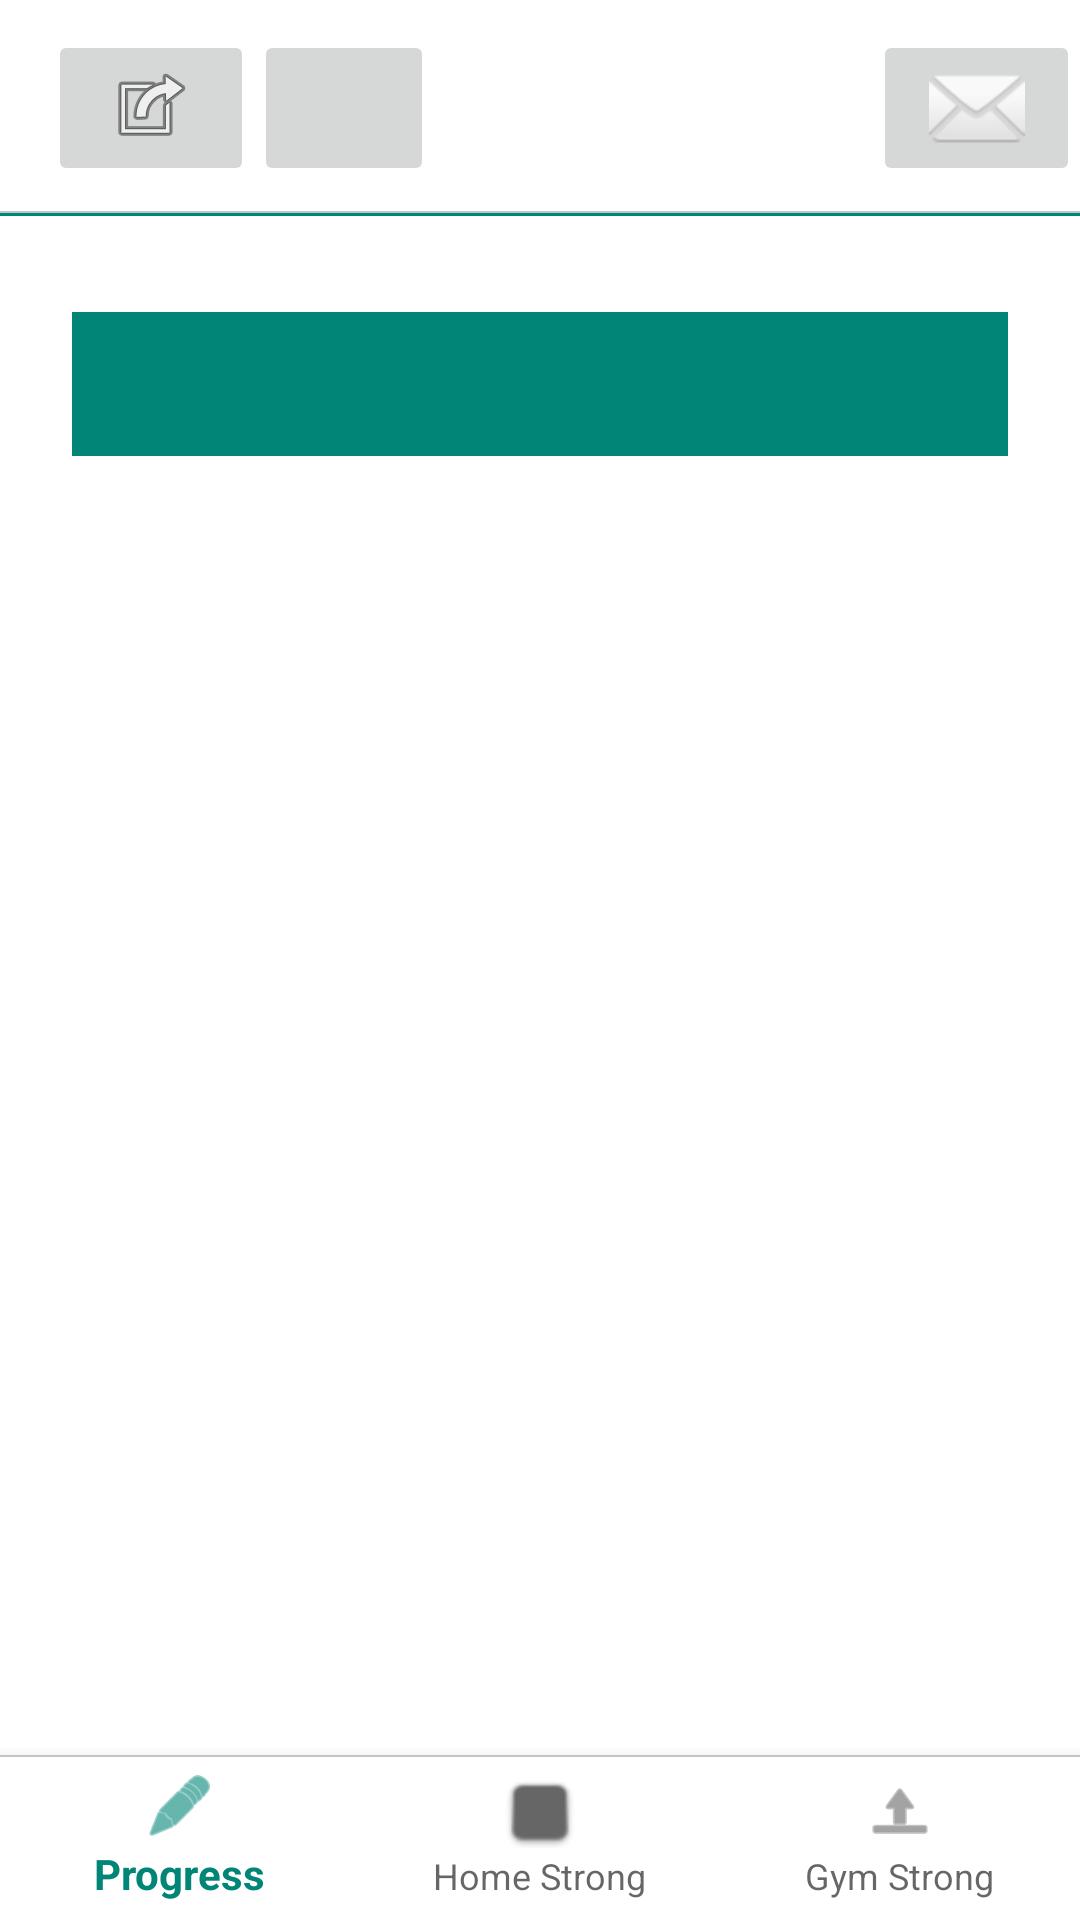

Screen size 1080*1920. Icon name, then its box in pixels as (x1, y1, x2, y2):
email: (885, 48, 1068, 168)
set as: (60, 48, 242, 168)
